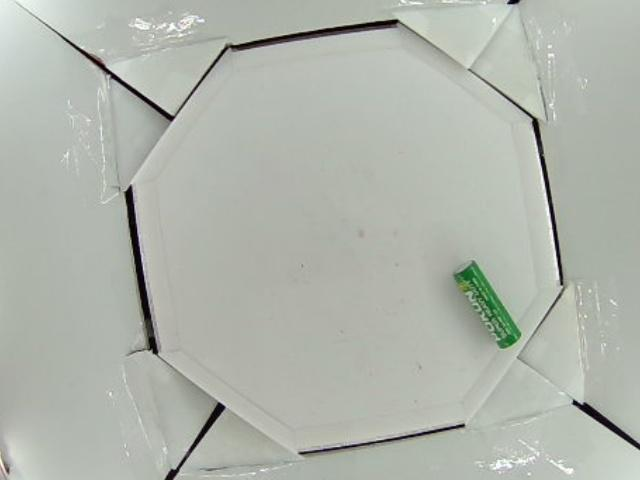Battery: (449, 262, 521, 350)
